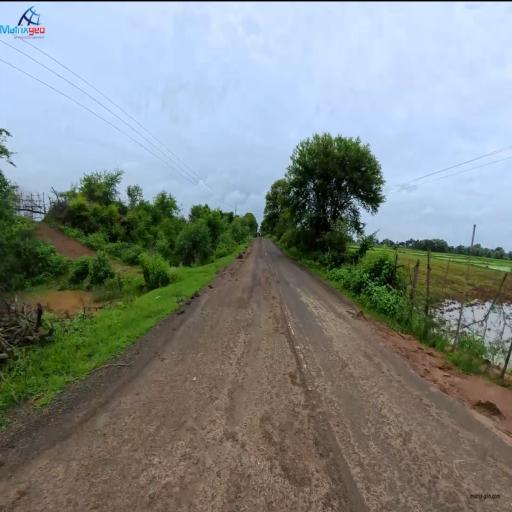ravelling: (277, 347, 376, 485)
